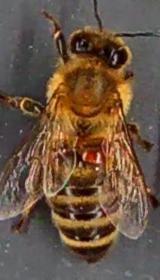varroa_mite: (83, 140, 114, 165)
